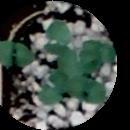Basil: (35, 72, 68, 107), (70, 77, 107, 104), (1, 40, 33, 69), (44, 23, 68, 53), (84, 40, 117, 61), (60, 51, 87, 76)
